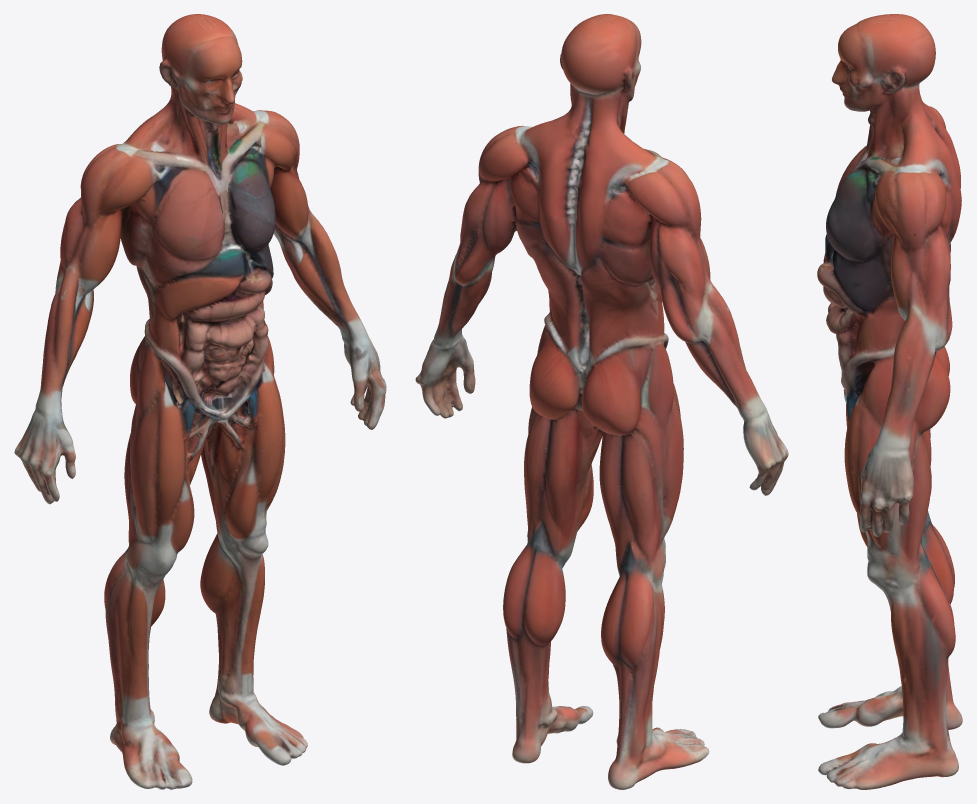
The model's file is human_body_plain.glb.
3 renders of one model, left to right at view 1: azimuth 30°, elevation 25°; view 2: azimuth 150°, elevation 25°; view 3: azimuth 270°, elevation 25°, orthographic.
Bounding box in the file's own units: 1.02 × 2 × 0.3604.
1 material, 1 textured.
